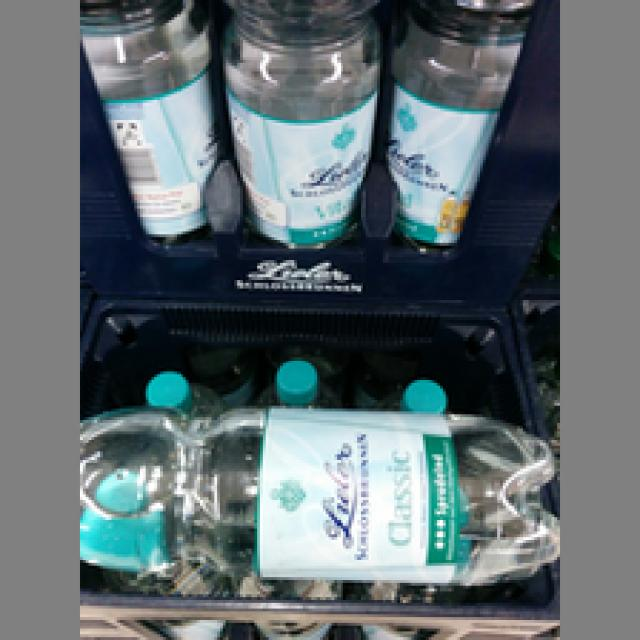groceries: (77, 406, 557, 586), (217, 0, 377, 243), (386, 0, 526, 246), (77, 0, 217, 240)
